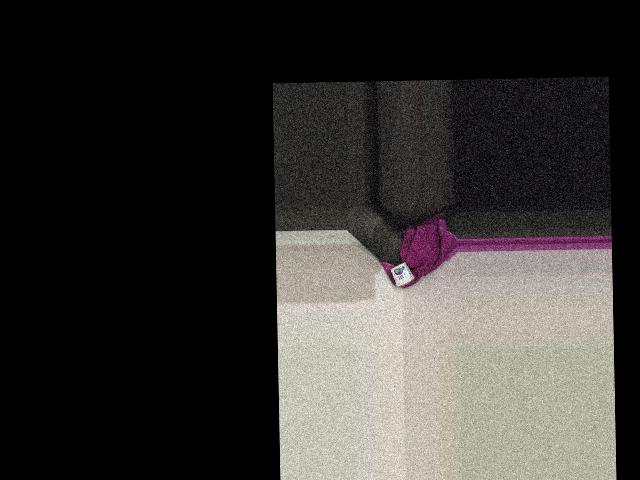cotage: (391, 262, 414, 287)
